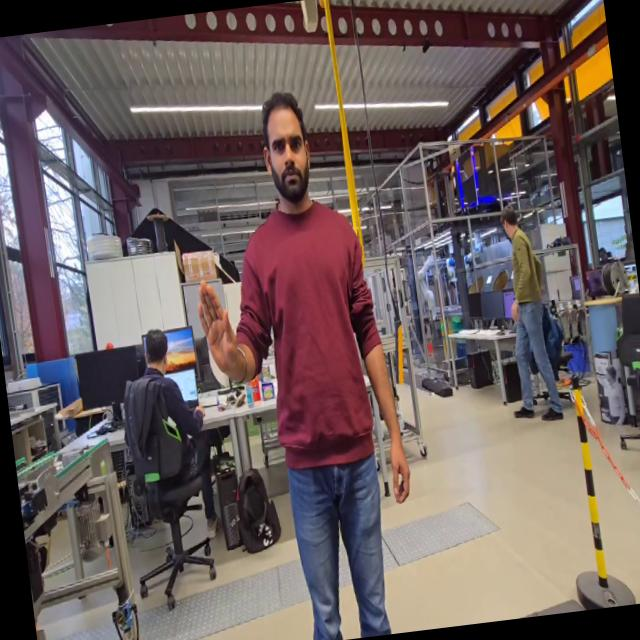open_palm: (190, 271, 247, 386)
